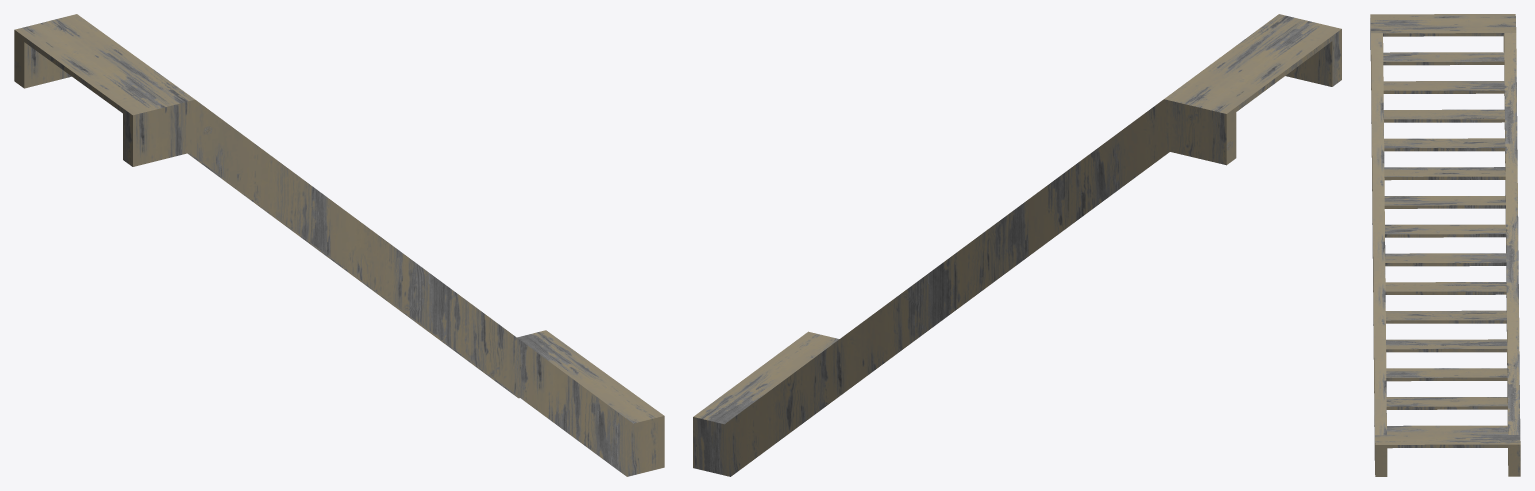
File: steps.fbx
The picture shows the model from 3 angles, left to right: view 1: azimuth 30°, elevation 25°; view 2: azimuth 150°, elevation 25°; view 3: azimuth 270°, elevation 25°; orthographic projection. The views are drawn at different scales.
Parts seen in each view (by area): view 1: Group1; view 2: Group1; view 3: Group1.
Boxes of the visible parts, left/top/right/bottom form: Group1: left=14, top=14, right=664, bottom=476; Group1: left=693, top=14, right=1341, bottom=476; Group1: left=1370, top=14, right=1520, bottom=476.
Size of the model in its own units: 176 by 152 by 68.73.
